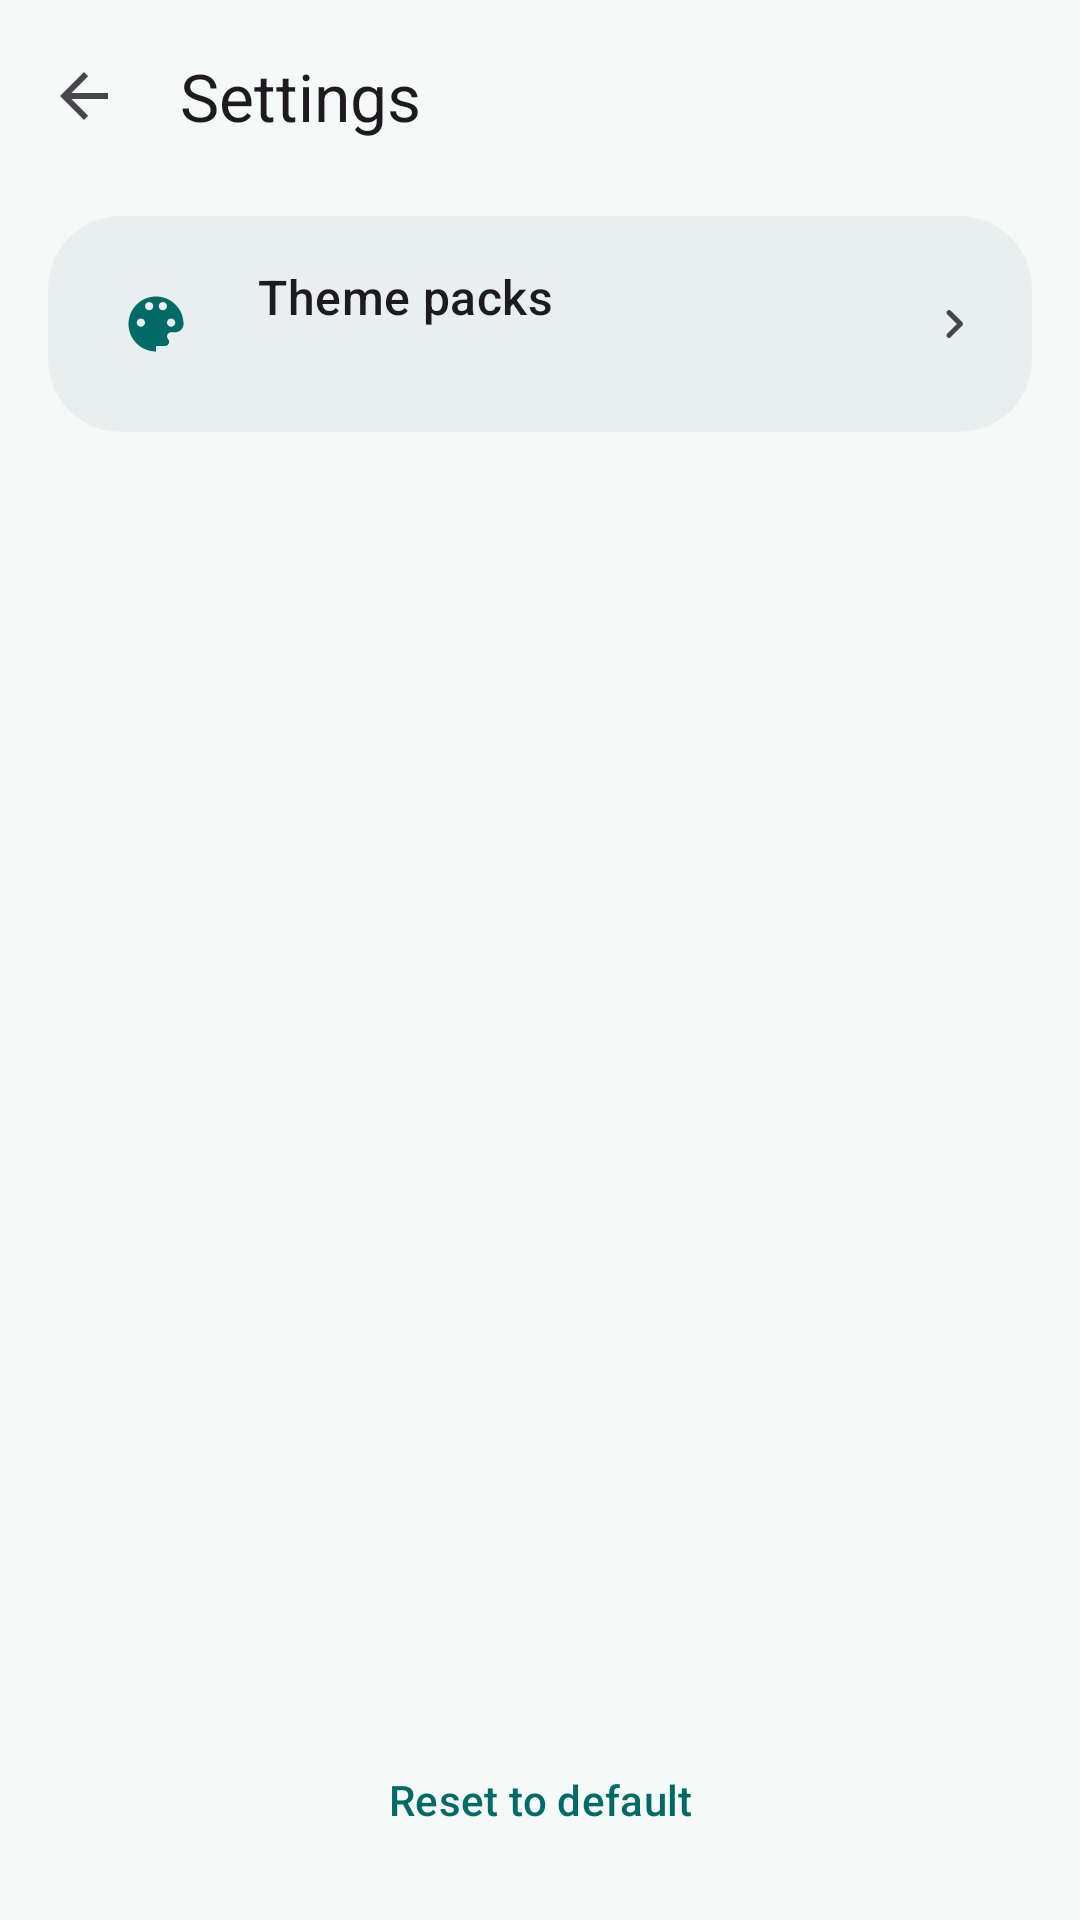

Locate icon controls on the screen. Image size 1080*1920, boxes as (x1, y1, x2, y2).
chevron right: (946, 310, 963, 338)
